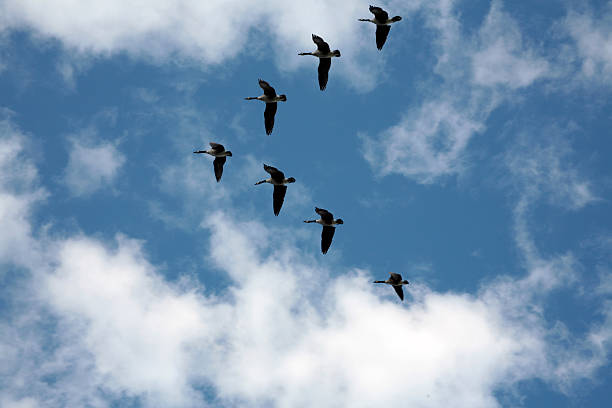goose: (297, 32, 343, 93), (243, 78, 289, 139), (253, 161, 298, 218), (300, 205, 347, 258), (355, 4, 404, 54), (191, 140, 234, 185), (370, 270, 412, 304)
